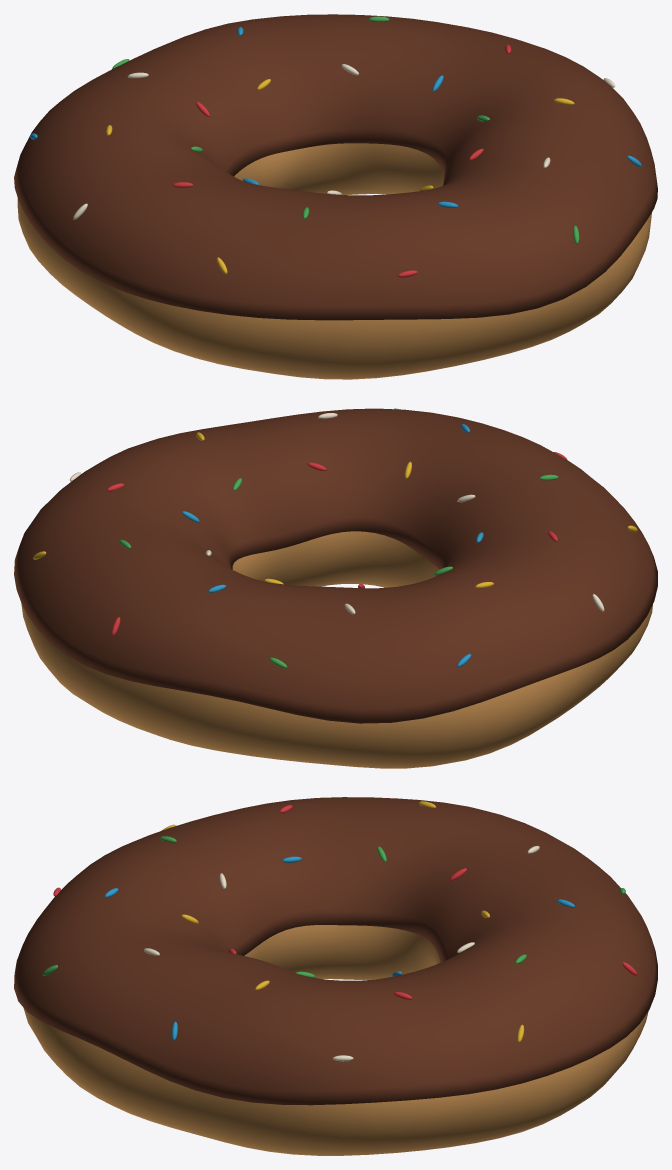
The picture shows the model from 3 angles, top to bottom: view 1: azimuth 30°, elevation 25°; view 2: azimuth 150°, elevation 25°; view 3: azimuth 270°, elevation 25°; orthographic projection.
Visible parts, largest first — view 1: Closed draped icing layer, Closed irregular dough ring; view 2: Closed draped icing layer, Closed irregular dough ring; view 3: Closed draped icing layer, Closed irregular dough ring.
Boxes of the visible parts, bbox=[...] form: Closed draped icing layer: bbox=[14, 14, 657, 320]; Closed irregular dough ring: bbox=[17, 143, 651, 379]; Closed draped icing layer: bbox=[14, 408, 657, 723]; Closed irregular dough ring: bbox=[21, 531, 652, 768]; Closed draped icing layer: bbox=[14, 797, 657, 1105]; Closed irregular dough ring: bbox=[23, 925, 648, 1155].
Size of the model in its own units: 0.0997 by 0.0279 by 0.0997.
